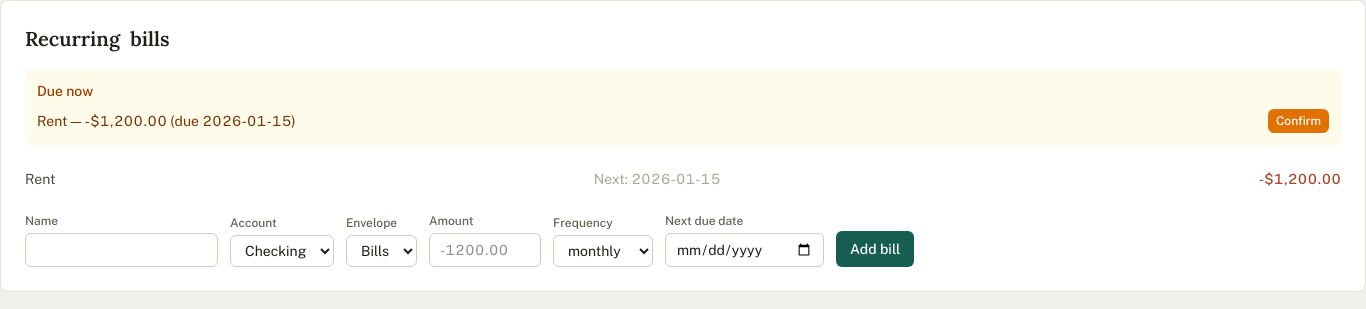
Scenario: RecurringBillsPanel › confirming a due bill removes it from the due list
expect the text "Due now" is shown: met, box [37,83,93,99]
Click the button "Confirm" at point(1298, 121), box [1268,109,1329,133]
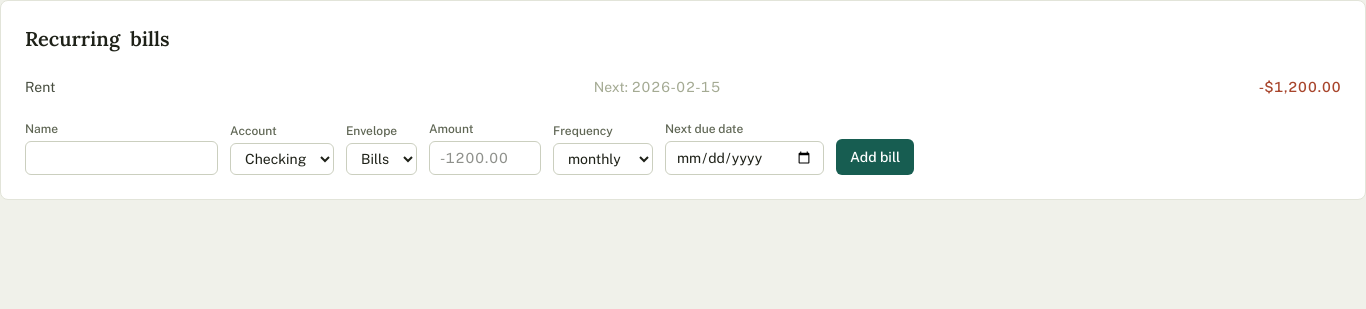
expect the text "Due now" is gone: met
expect the text "Next: 2026-02-15" is shown: met, box [594,77,720,97]
